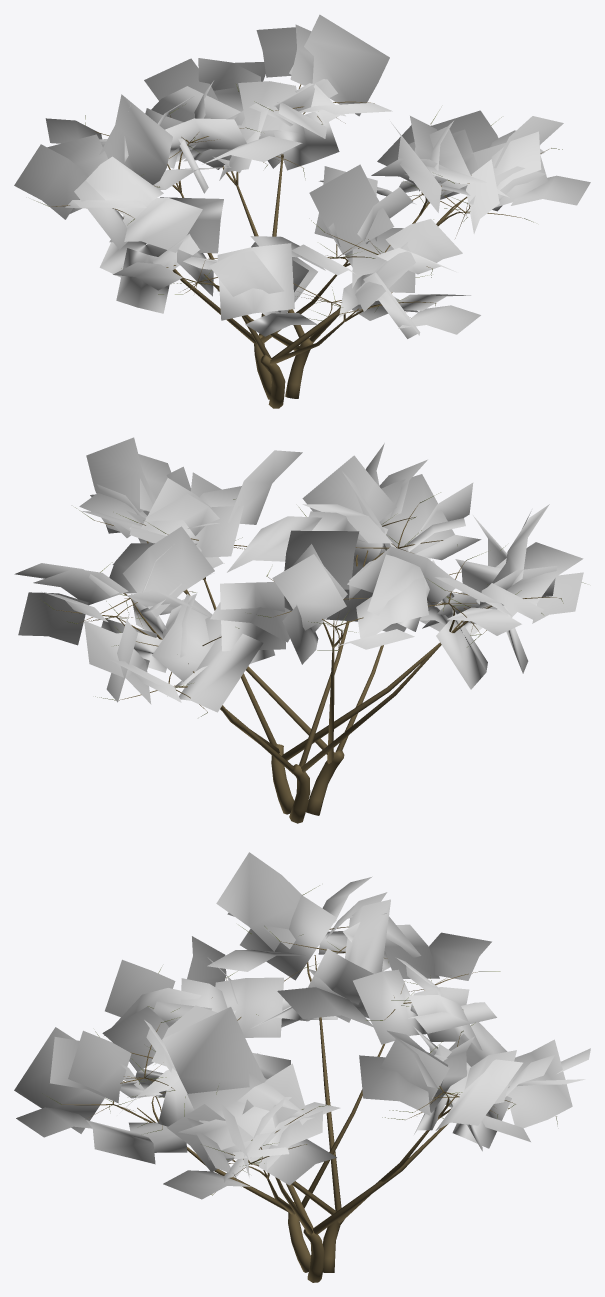
The model's file is V7_Lentisque_0_Niveau2.fbx.
3 views of the same model, one above another, from view 1: azimuth 30°, elevation 25°; view 2: azimuth 150°, elevation 25°; view 3: azimuth 270°, elevation 25° (orthographic). The views are drawn at different scales.
Visible parts, largest first — view 1: V7_Lentisque_0_Detail2; view 2: V7_Lentisque_0_Detail2; view 3: V7_Lentisque_0_Detail2.
Boxes of the visible parts, bbox=[...] form: V7_Lentisque_0_Detail2: bbox=[14, 14, 590, 408]; V7_Lentisque_0_Detail2: bbox=[14, 437, 585, 823]; V7_Lentisque_0_Detail2: bbox=[14, 852, 590, 1282].
Size of the model in its own units: 314 by 189 by 306.
